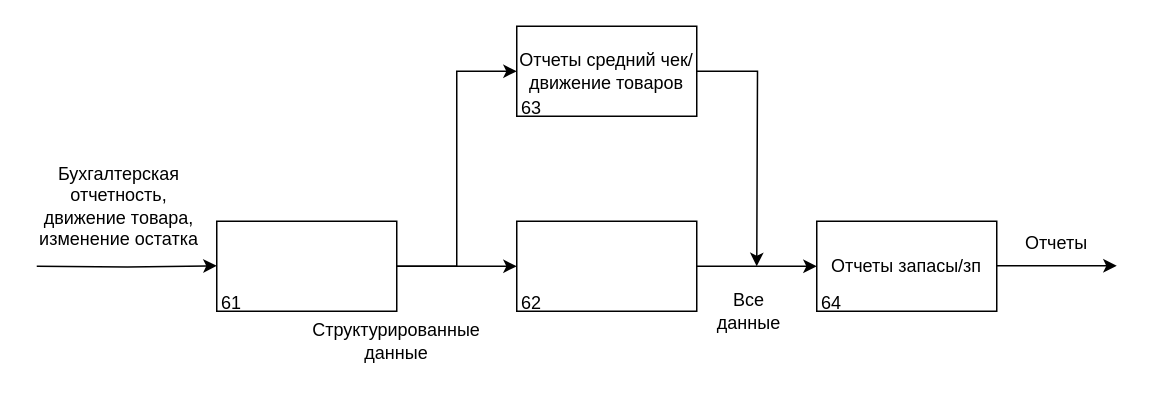
The diagram is 1155 pixels wide and 398 high, and some of its shapes have lost their labels. The shapes that lost their labels are listed below. From the top down, each one's box as (x1, y1, x2, y2) in pixels, then its label:
(215, 220, 397, 311): Сбор и обработка данных
(515, 220, 697, 311): Отчеты посетители/марочный
